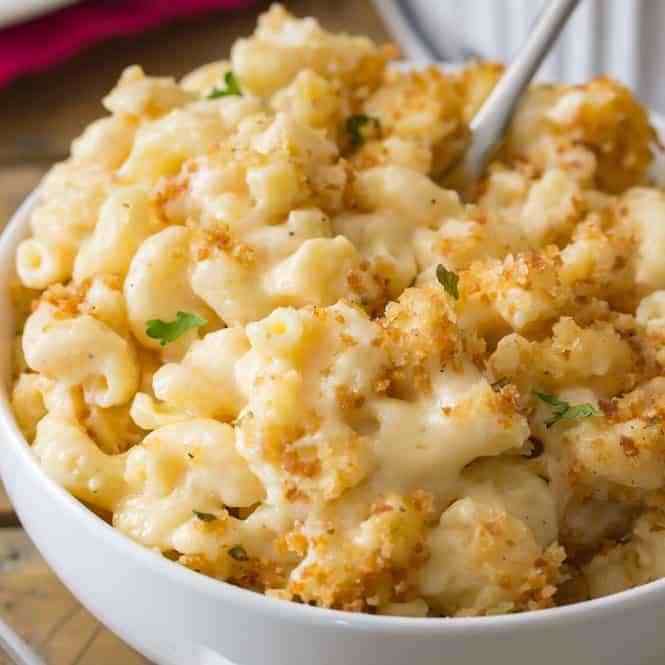cheese: (242, 297, 389, 479)
